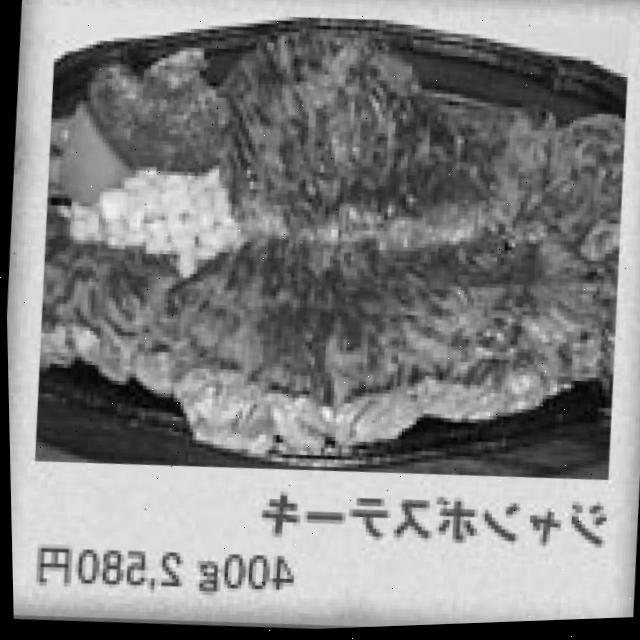牛肉菜式: (36, 30, 638, 489)
